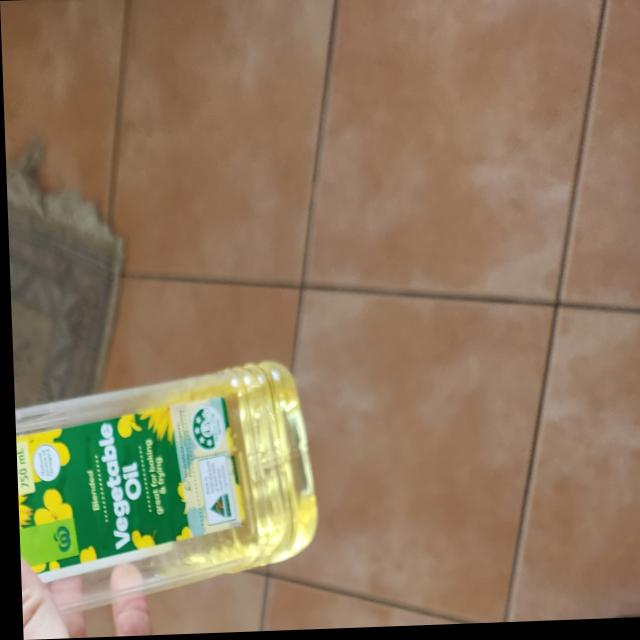vegetable oil: (11, 359, 319, 640)
